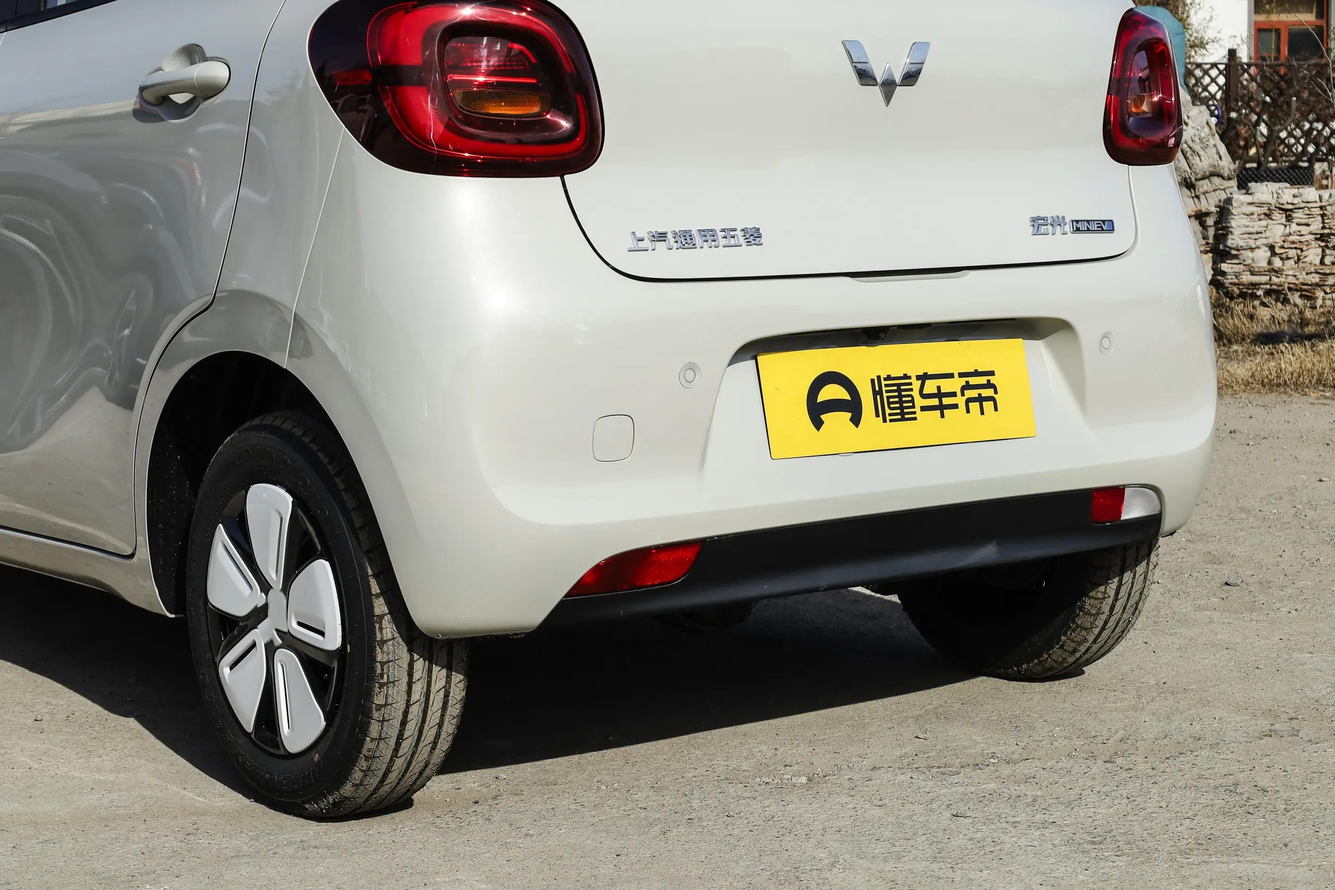SGMW: (843, 40, 930, 106)
